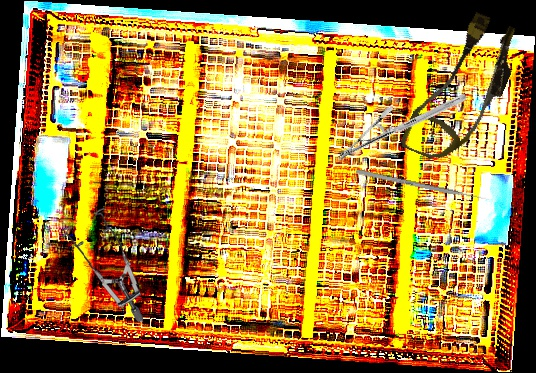Cannula: (399, 4, 528, 175)
Needle Holder: (335, 54, 468, 201)
Pusher: (355, 169, 490, 202)
Speculum: (57, 205, 149, 324)
